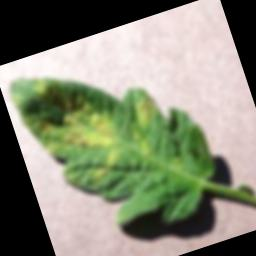Leaf_Mold: (19, 86, 129, 199), (129, 90, 165, 133)
